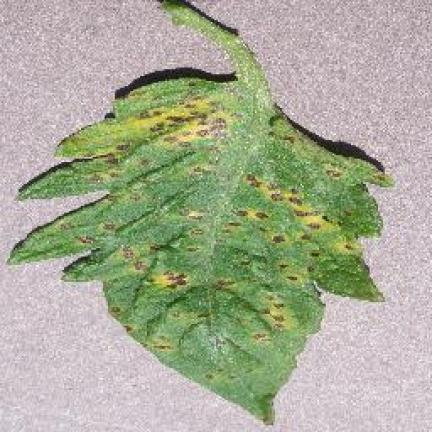disease: (10, 0, 390, 422)
leaf: (65, 88, 202, 151), (184, 103, 194, 108)
